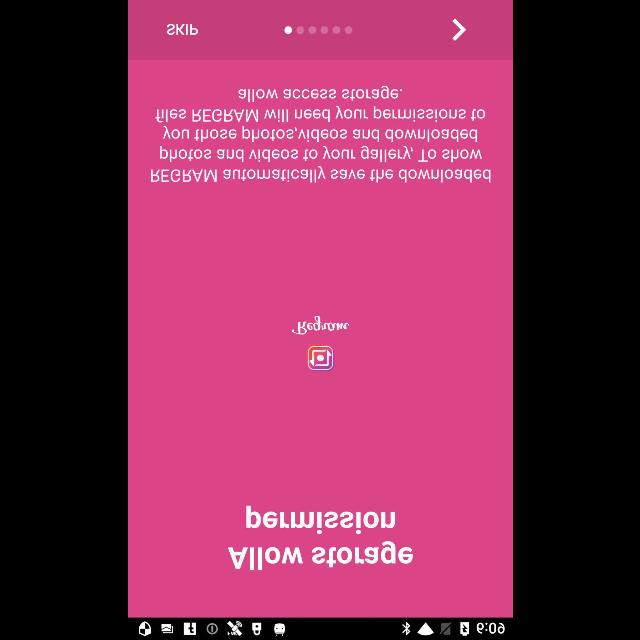icon: (452, 18, 466, 42)
image: (291, 315, 349, 371)
pageindicator: (284, 26, 352, 34)
text: (150, 85, 490, 183), (226, 504, 412, 570), (166, 23, 198, 35)
uppertaskbar: (128, 617, 512, 639)
